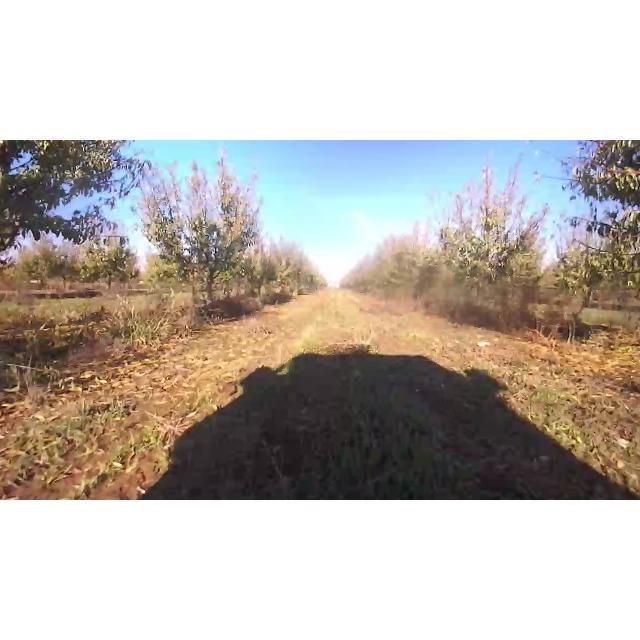direk: (147, 146, 269, 318), (438, 165, 546, 328), (0, 142, 133, 241), (82, 236, 138, 294)
